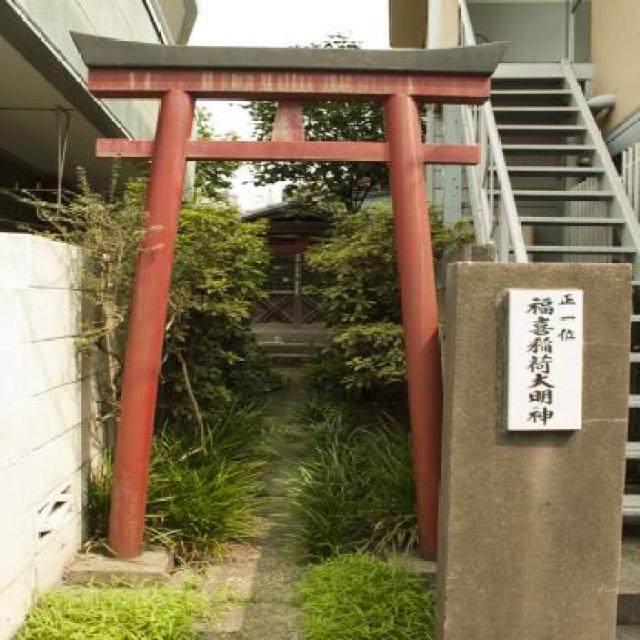stair: (471, 58, 638, 640), (254, 328, 337, 369)
